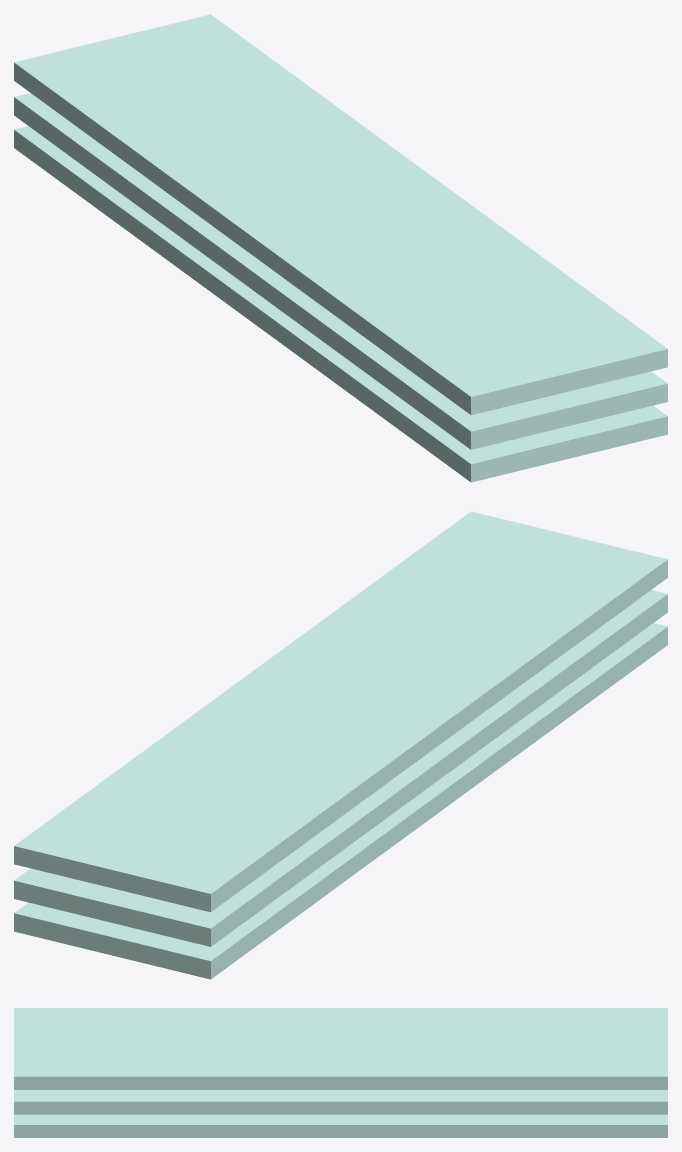
Rendered from Building_Decor_03.glb.
The picture shows the model from 3 angles, top to bottom: view 1: azimuth 30°, elevation 25°; view 2: azimuth 150°, elevation 25°; view 3: azimuth 270°, elevation 25°; orthographic projection. The views are drawn at different scales.
Parts seen in each view (by area): view 1: buildings_decor_03_geo; view 2: buildings_decor_03_geo; view 3: buildings_decor_03_geo.
Boxes of the visible parts, box(x1,y1,x2,y2) form: buildings_decor_03_geo: box(14, 14, 667, 482); buildings_decor_03_geo: box(14, 511, 667, 979); buildings_decor_03_geo: box(14, 1008, 667, 1137).
Size of what is drawn, in the model's own units: 1 by 0.4154 by 4.02.
Materials: 1 (1 with a texture image).
